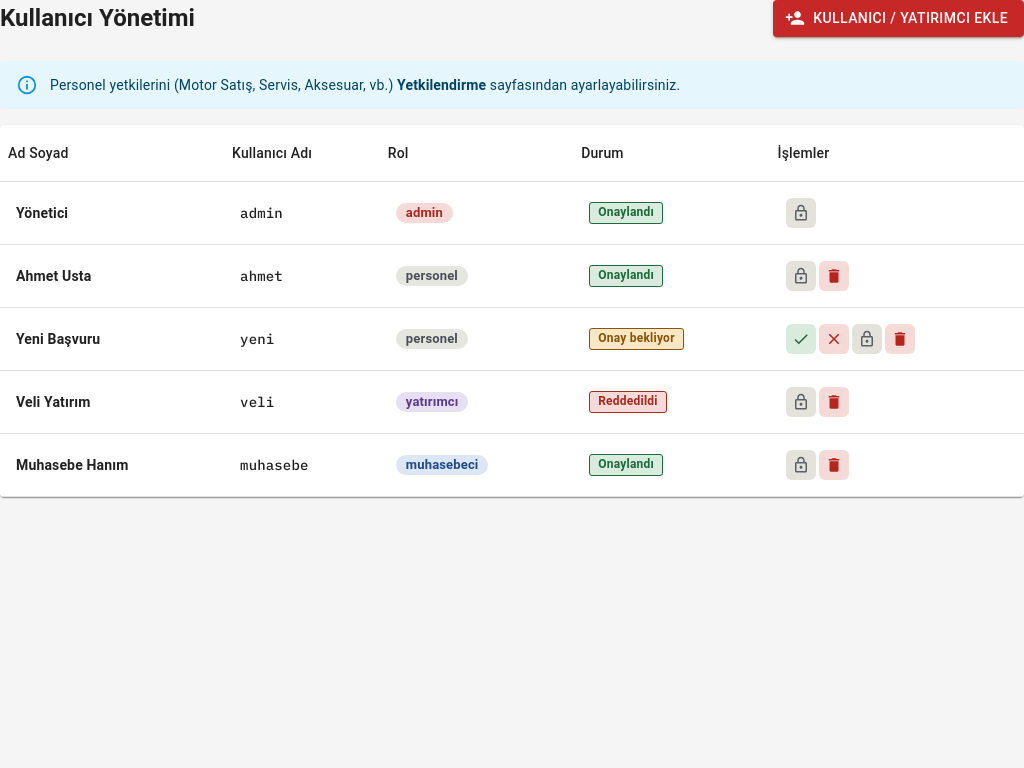
Test: Kullanıcılar: yeni kullanıcı / yatırımcı › boş alan bırakılırsa "Tüm alanlar zorunludur" der ve sunucuya gitmez
Expected: the text "Ahmet Usta" is shown, [0, 244, 224, 307]
Click the button "Kullanıcı / Yatırımcı Ekle" at {"x": 899, "y": 18}, box [773, 0, 1023, 36]
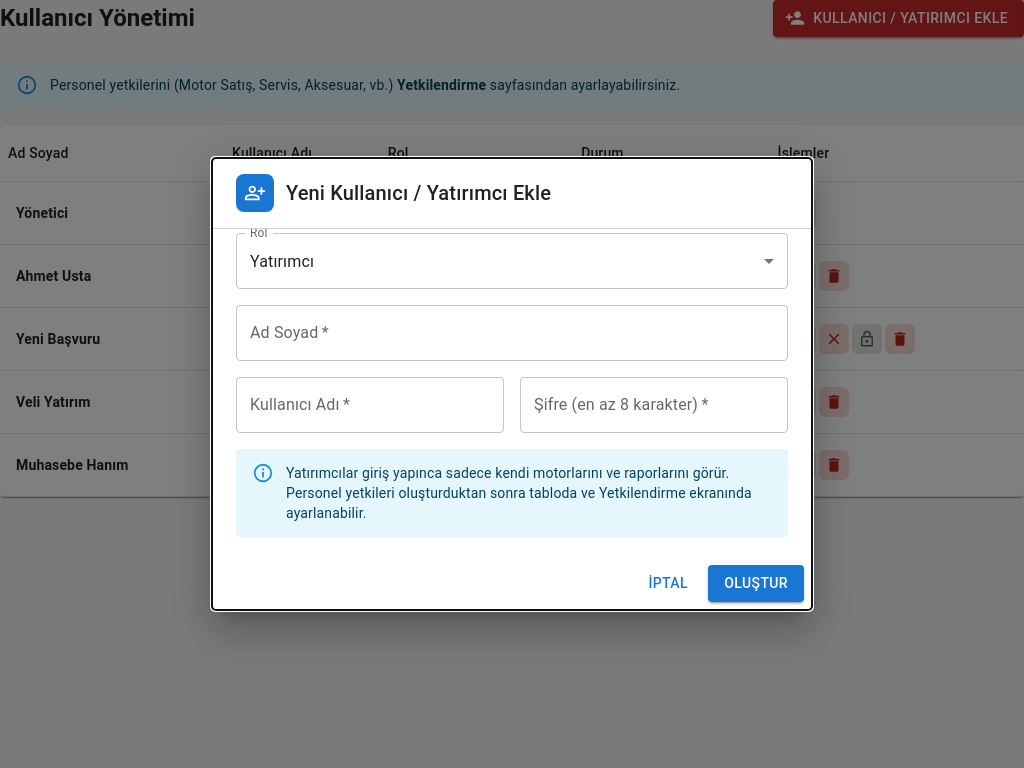
Type "Zeynep Kaya" into the field labelled "Ad Soyad *" at {"x": 512, "y": 333}, box [236, 305, 788, 361]
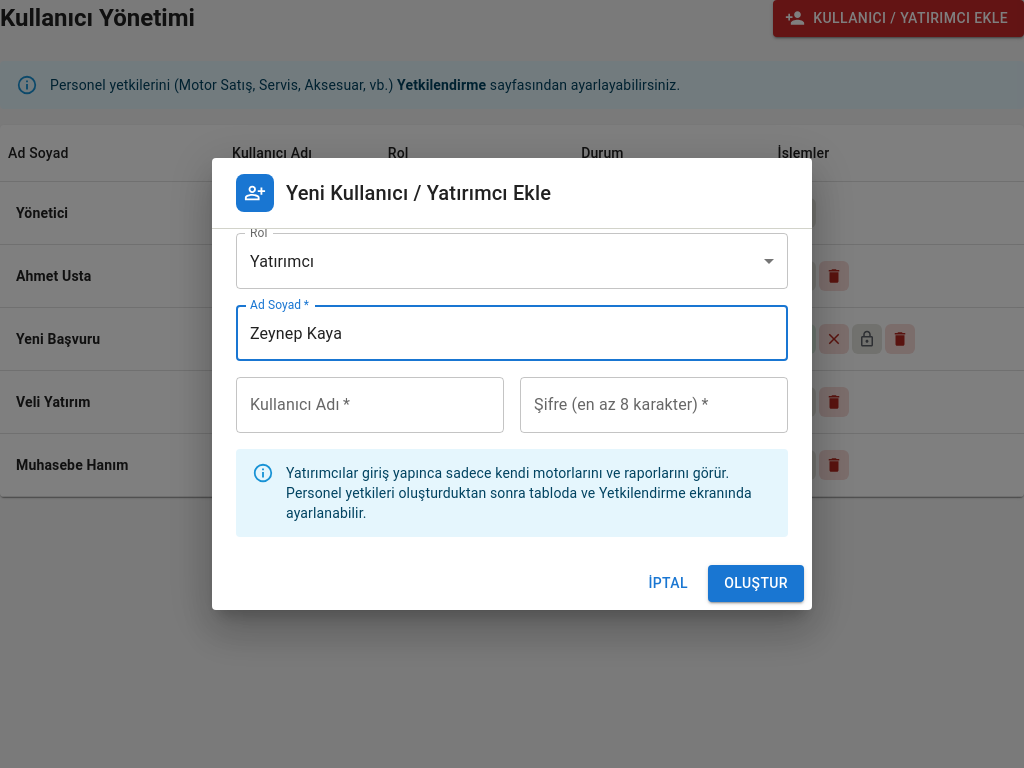
Click the button "Oluştur" at {"x": 756, "y": 584}, box [708, 565, 804, 602]
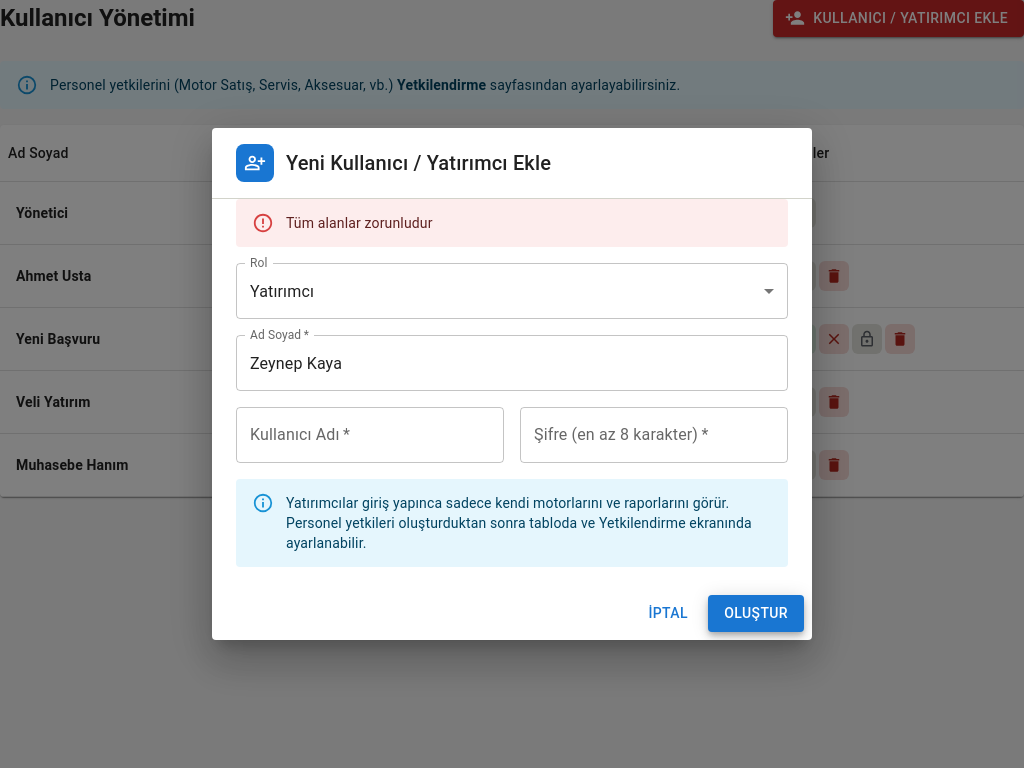
Expected: the text "Tüm alanlar zorunludur" is shown, [286, 215, 433, 231]
